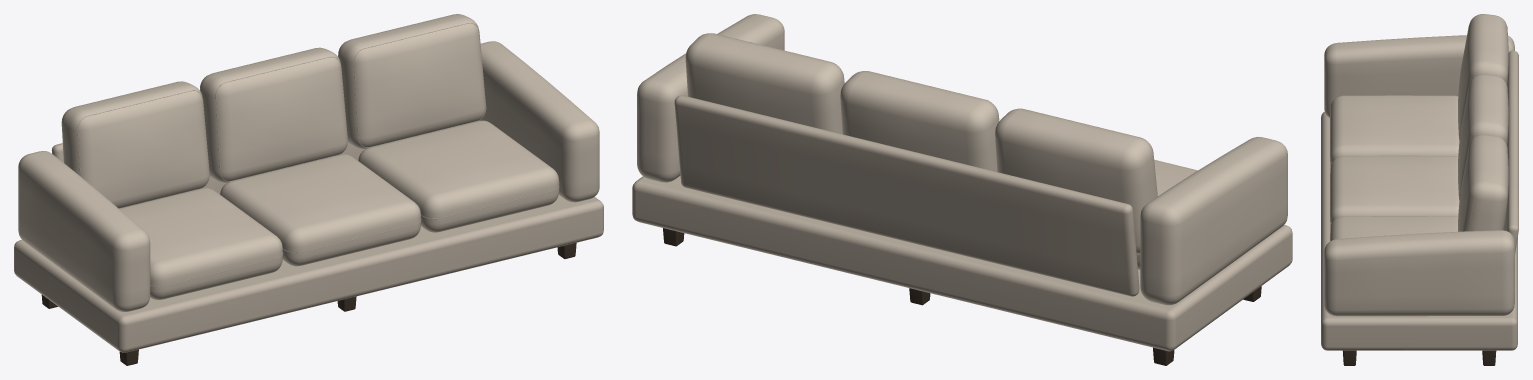
File: sofa-3-seater.glb
3 renders of one model, left to right at view 1: azimuth 30°, elevation 25°; view 2: azimuth 150°, elevation 25°; view 3: azimuth 270°, elevation 25°, orthographic. The views are drawn at different scales.
Parts seen in each view (by area): view 1: EQ_sofa-3-seater, EQ_sofa-3-seater_Continuous_Upholstered_Base, EQ_sofa-3-seater_Armrest_Left, EQ_sofa-3-seater_Armrest_Right, EQ_sofa-3-seater_Rear_Support; view 2: EQ_sofa-3-seater_Rear_Support, EQ_sofa-3-seater, EQ_sofa-3-seater_Continuous_Upholstered_Base, EQ_sofa-3-seater_Armrest_Left, EQ_sofa-3-seater_Armrest_Right; view 3: EQ_sofa-3-seater, EQ_sofa-3-seater_Armrest_Right, EQ_sofa-3-seater_Continuous_Upholstered_Base, EQ_sofa-3-seater_Armrest_Left, EQ_sofa-3-seater_Rear_Support.
Part boxes in pixels (x1,y1,x2,y2): EQ_sofa-3-seater: (41,14,576,365); EQ_sofa-3-seater_Continuous_Upholstered_Base: (14,195,603,352); EQ_sofa-3-seater_Armrest_Left: (18,151,150,311); EQ_sofa-3-seater_Armrest_Right: (479,41,599,202); EQ_sofa-3-seater_Rear_Support: (51,143,364,194); EQ_sofa-3-seater_Rear_Support: (674,95,1139,296); EQ_sofa-3-seater: (663,33,1261,365); EQ_sofa-3-seater_Continuous_Upholstered_Base: (632,175,1292,351); EQ_sofa-3-seater_Armrest_Left: (1140,137,1287,305); EQ_sofa-3-seater_Armrest_Right: (637,14,784,182); EQ_sofa-3-seater: (1330,14,1508,365); EQ_sofa-3-seater_Armrest_Right: (1324,230,1514,316); EQ_sofa-3-seater_Continuous_Upholstered_Base: (1321,112,1517,350); EQ_sofa-3-seater_Armrest_Left: (1324,35,1514,117); EQ_sofa-3-seater_Rear_Support: (1503,50,1518,253).
Bounding box in the file's own units: 2.45 × 0.9156 × 0.9646.
